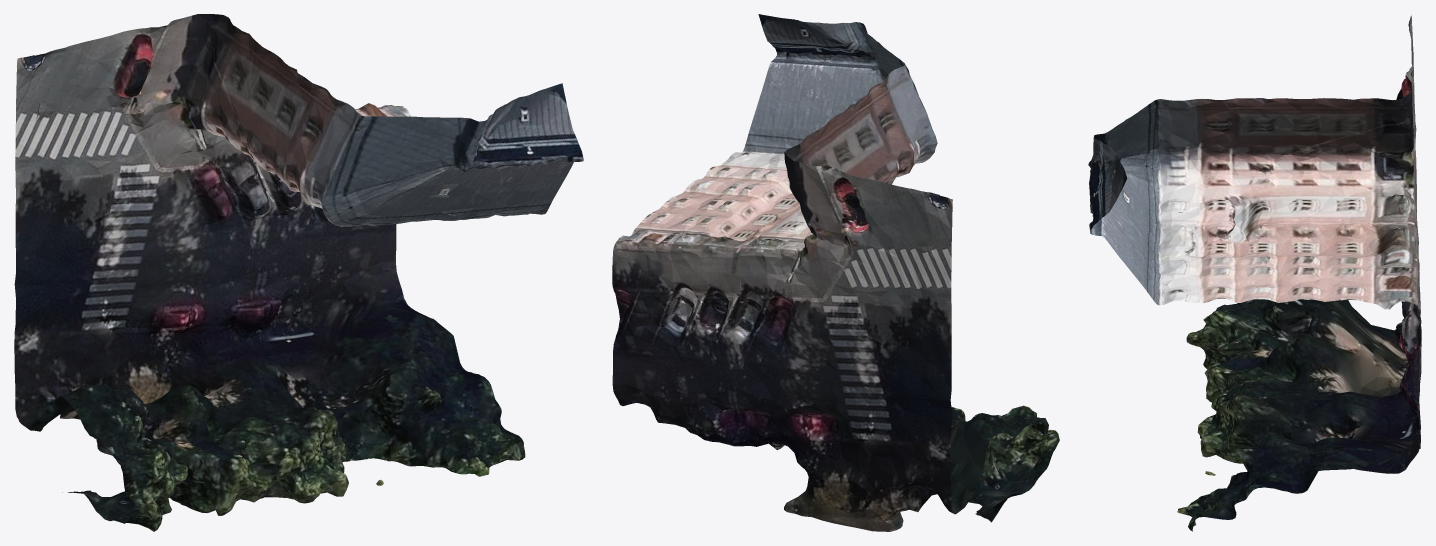
The model's file is Tile_+031_+023_L21_00000300.obj.
3 views of the same model, side by side, from view 1: azimuth 30°, elevation 25°; view 2: azimuth 150°, elevation 25°; view 3: azimuth 270°, elevation 25° (orthographic). The views are drawn at different scales.
Bounding box in the file's own units: 31.38 × 31.38 × 26.85.
Materials: 1 (1 with a texture image).
